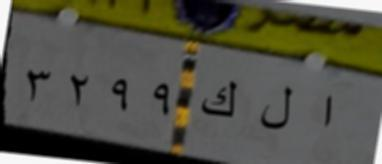2: (68, 74, 94, 108)
3: (25, 64, 53, 109)
9: (108, 76, 134, 118), (152, 79, 172, 121)
alif: (308, 88, 338, 136)
kaaf: (198, 74, 238, 126)
laam: (257, 81, 294, 134)
